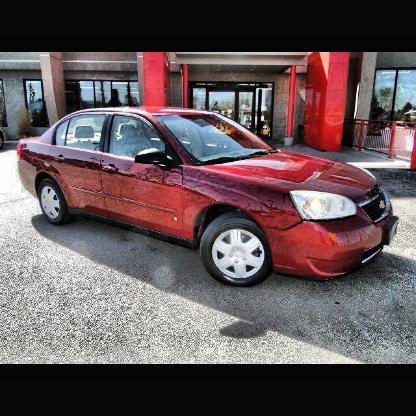Chevrolet Malibu Sedan 2007: (18, 105, 400, 289)
